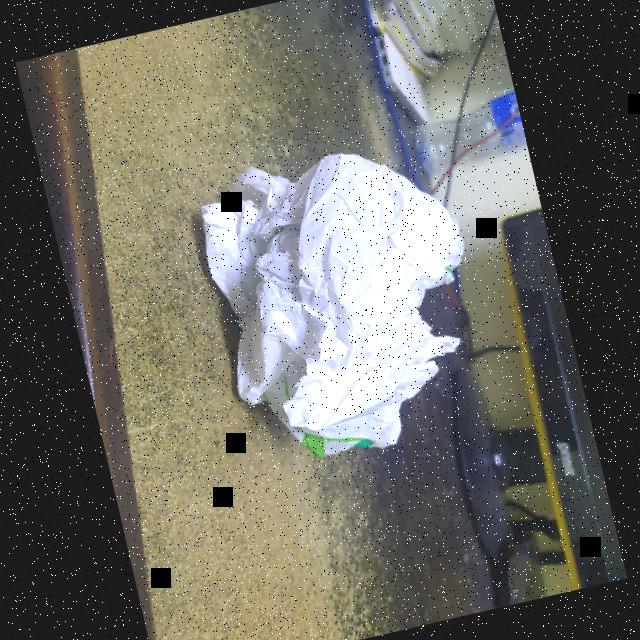plastic_bag: (160, 104, 510, 488)
